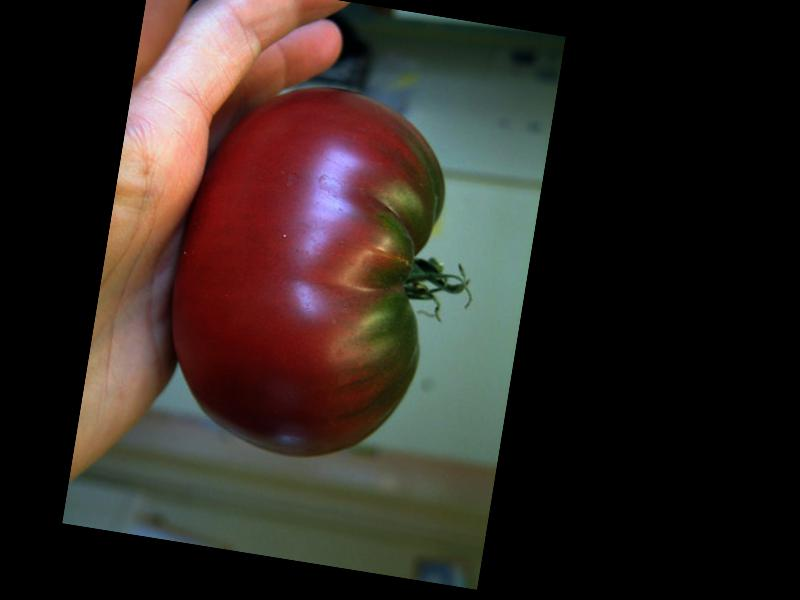Tomato: (150, 68, 459, 473)
